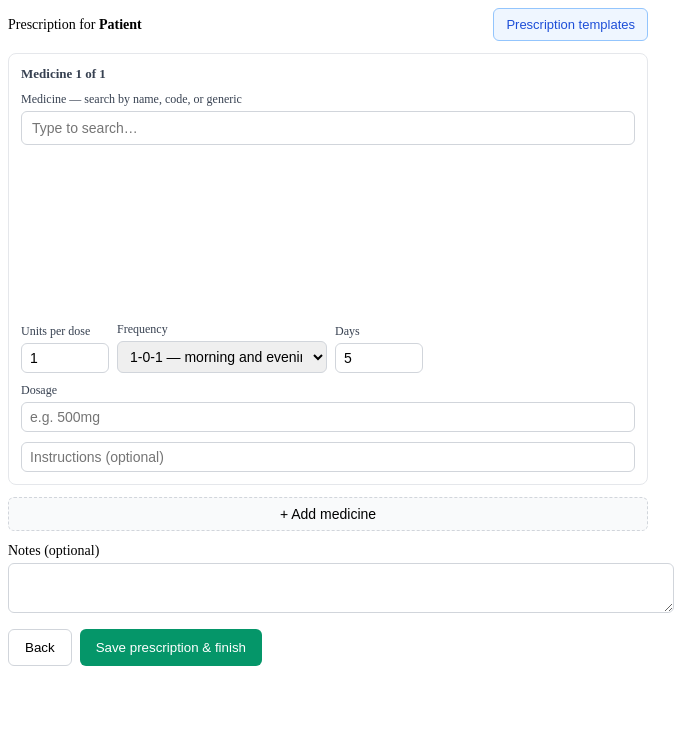
Test: PrescriptionWriter › guards a missing patient id before submission
Click the button "Save prescription & finish" at (171,648), box 80,629 -> 262,666
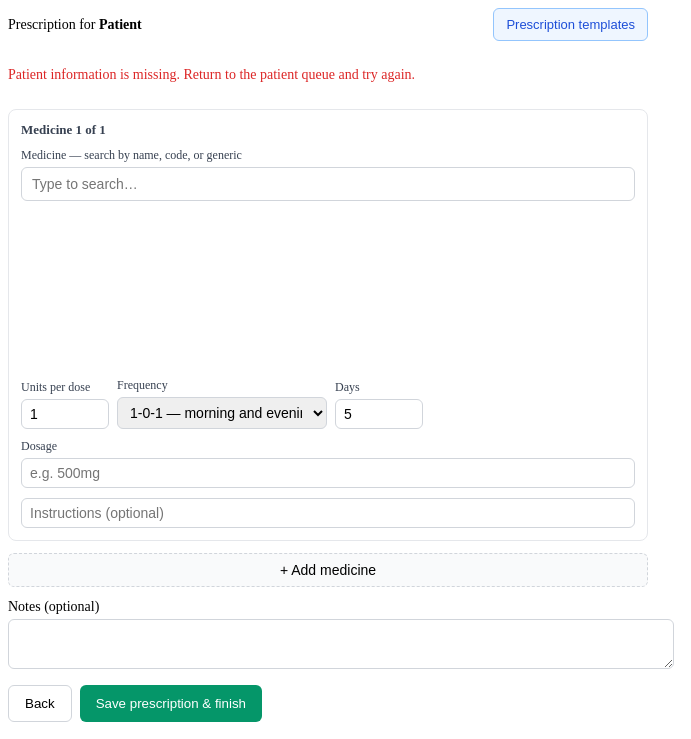
Expected: the message shows "Patient information is missing.", 8,67 -> 415,82
